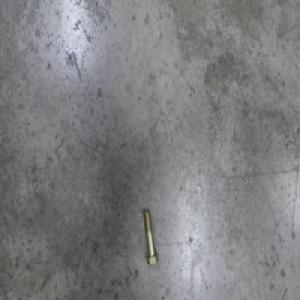Bolt: (142, 210, 159, 267)
